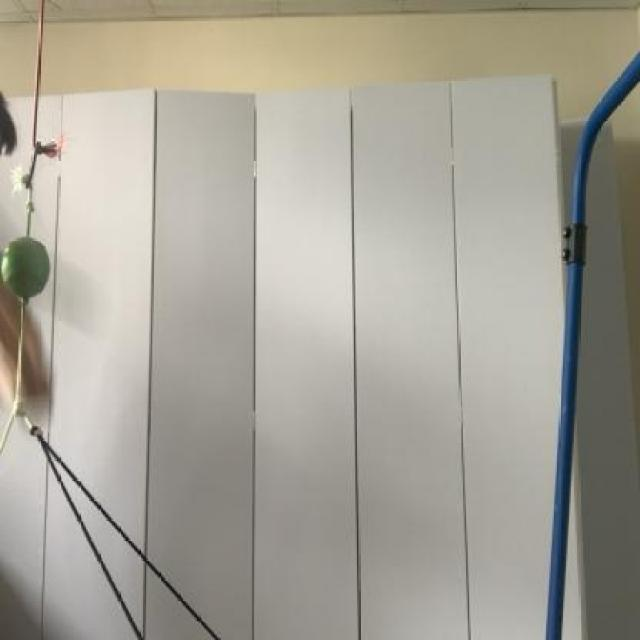baseball: (1, 226, 53, 303)
